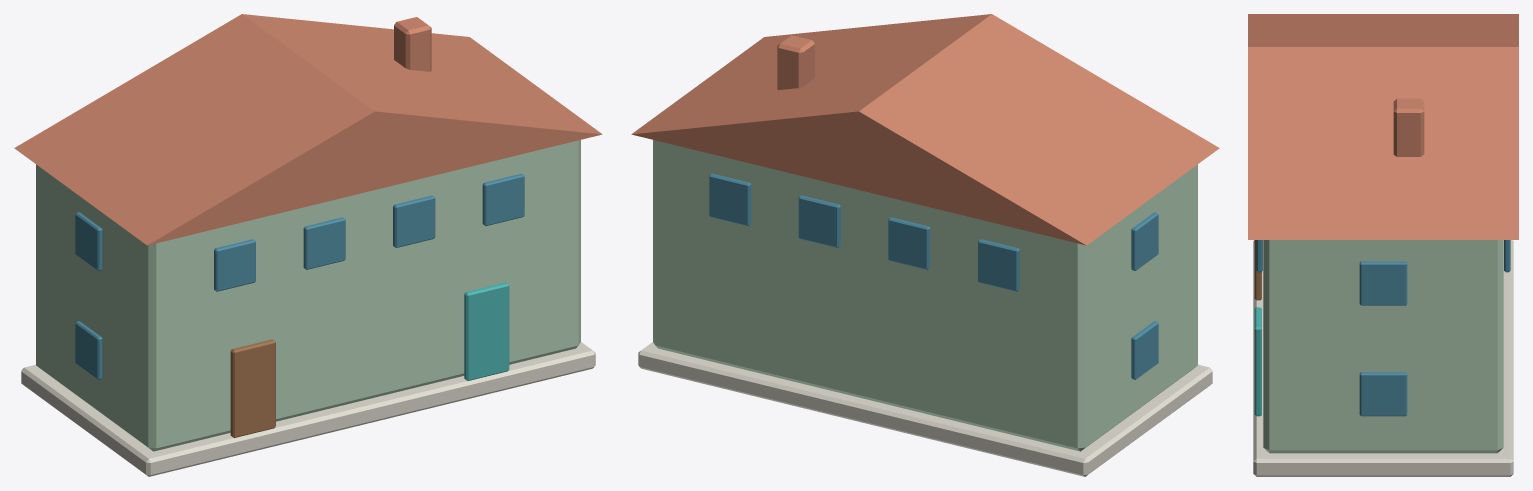
Rendered from RES_LOW_2x1_007.glb.
3 renders of one model, left to right at view 1: azimuth 30°, elevation 25°; view 2: azimuth 150°, elevation 25°; view 3: azimuth 270°, elevation 25°, orthographic.
Visible parts, largest first — view 1: RES_LOW_2x1_007_Visual; view 2: RES_LOW_2x1_007_Visual; view 3: RES_LOW_2x1_007_Visual.
Boxes of the visible parts, <box> form: RES_LOW_2x1_007_Visual: <box>14,14,602,476</box>; RES_LOW_2x1_007_Visual: <box>631,14,1219,476</box>; RES_LOW_2x1_007_Visual: <box>1248,14,1518,476</box>.
Size of what is drawn, in the model's own units: 3.15 by 2.09 by 1.6.
